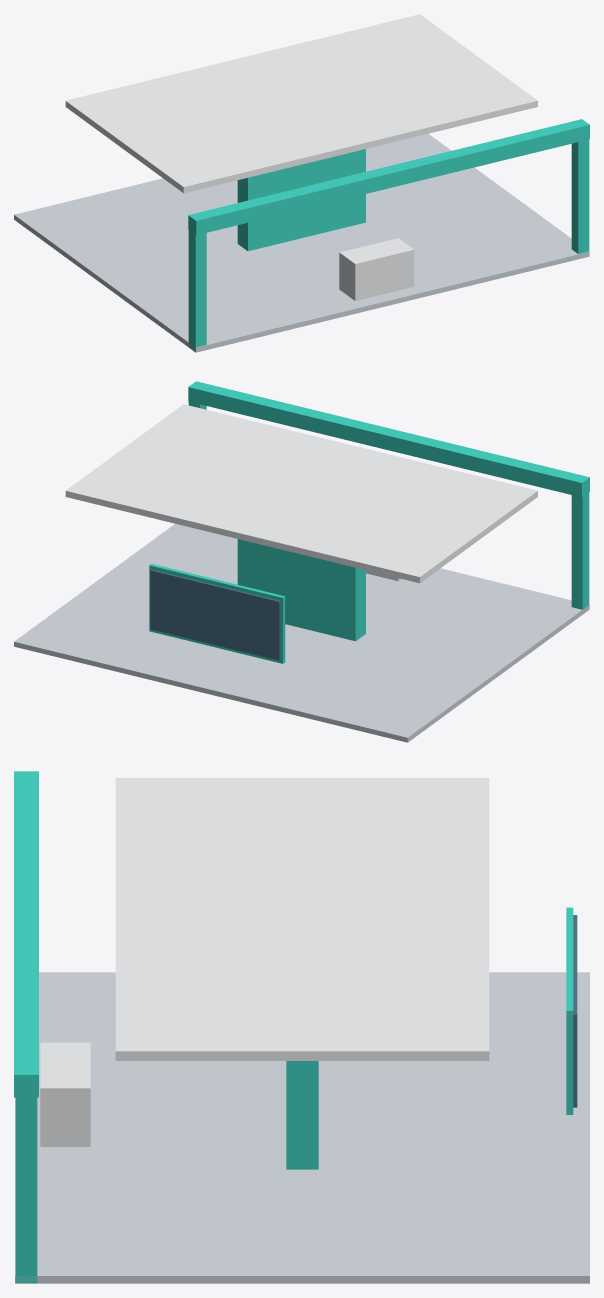
The picture shows the model from 3 angles, top to bottom: view 1: azimuth 30°, elevation 25°; view 2: azimuth 150°, elevation 25°; view 3: azimuth 270°, elevation 25°; orthographic projection. The views are drawn at different scales.
Visible parts, largest first — view 1: Exhibition Booth Concept; view 2: Exhibition Booth Concept; view 3: Exhibition Booth Concept.
Boxes of the visible parts, bbox=[...] form: Exhibition Booth Concept: bbox=[14, 14, 589, 352]; Exhibition Booth Concept: bbox=[14, 381, 589, 742]; Exhibition Booth Concept: bbox=[14, 771, 589, 1283].
Size of the model in its own units: 10 by 3.34 by 8.01.
